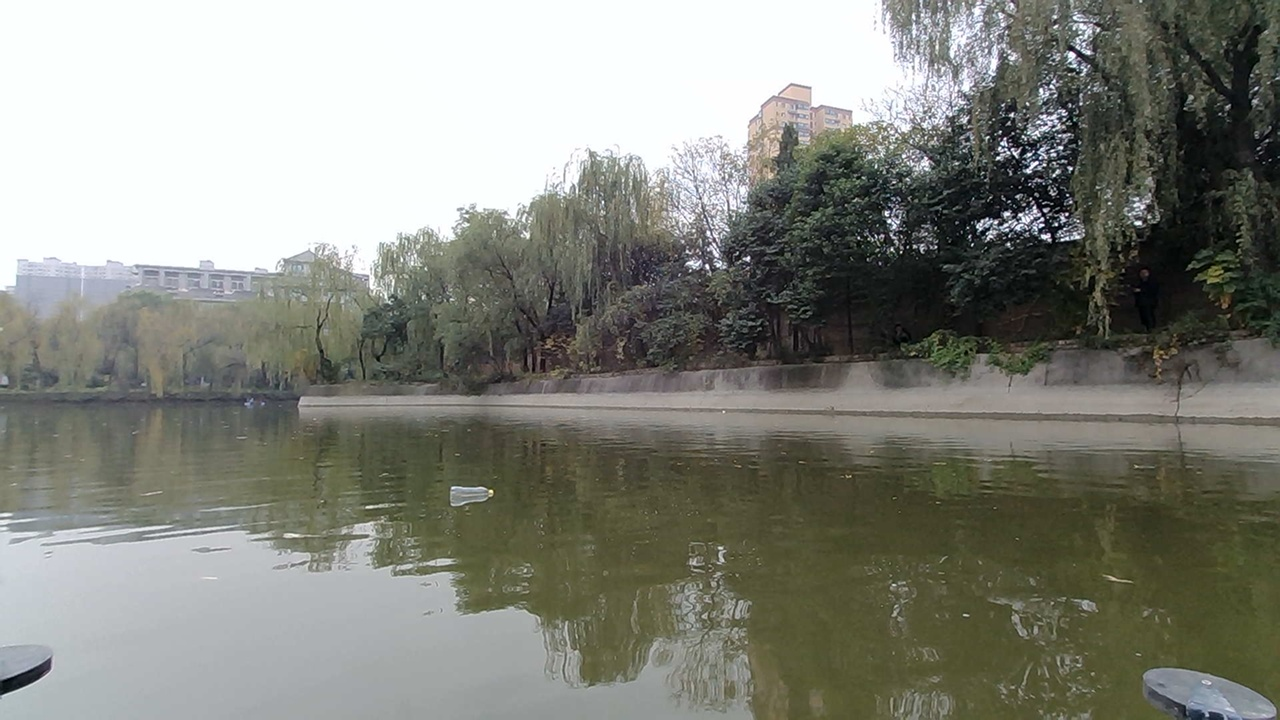bottle: (439, 468, 503, 513)
